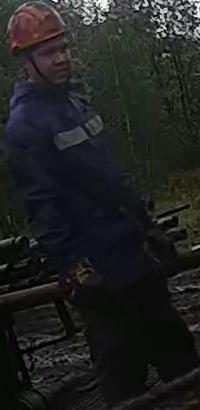gloves: (130, 219, 181, 279), (57, 257, 107, 316)
helmet: (6, 0, 71, 56)
vest: (2, 77, 168, 296)
